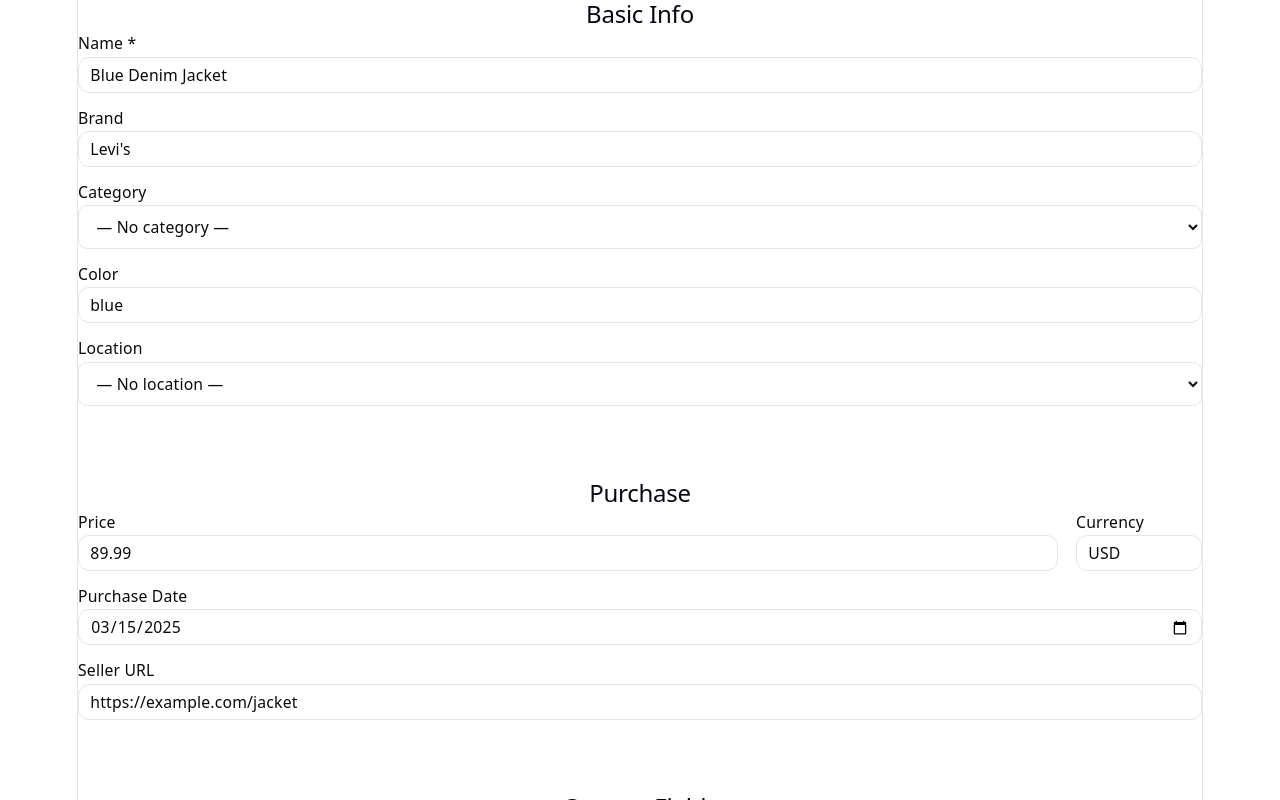
Test: ItemForm › ItemForm should show validation error when name is empty in edit mode
The width and height of the screenshot is (1280, 800).
Clear the field showing "Blue Denim Jacket": (640, 75) top-left (78, 57), bottom-right (1202, 93)
(page scrolled)
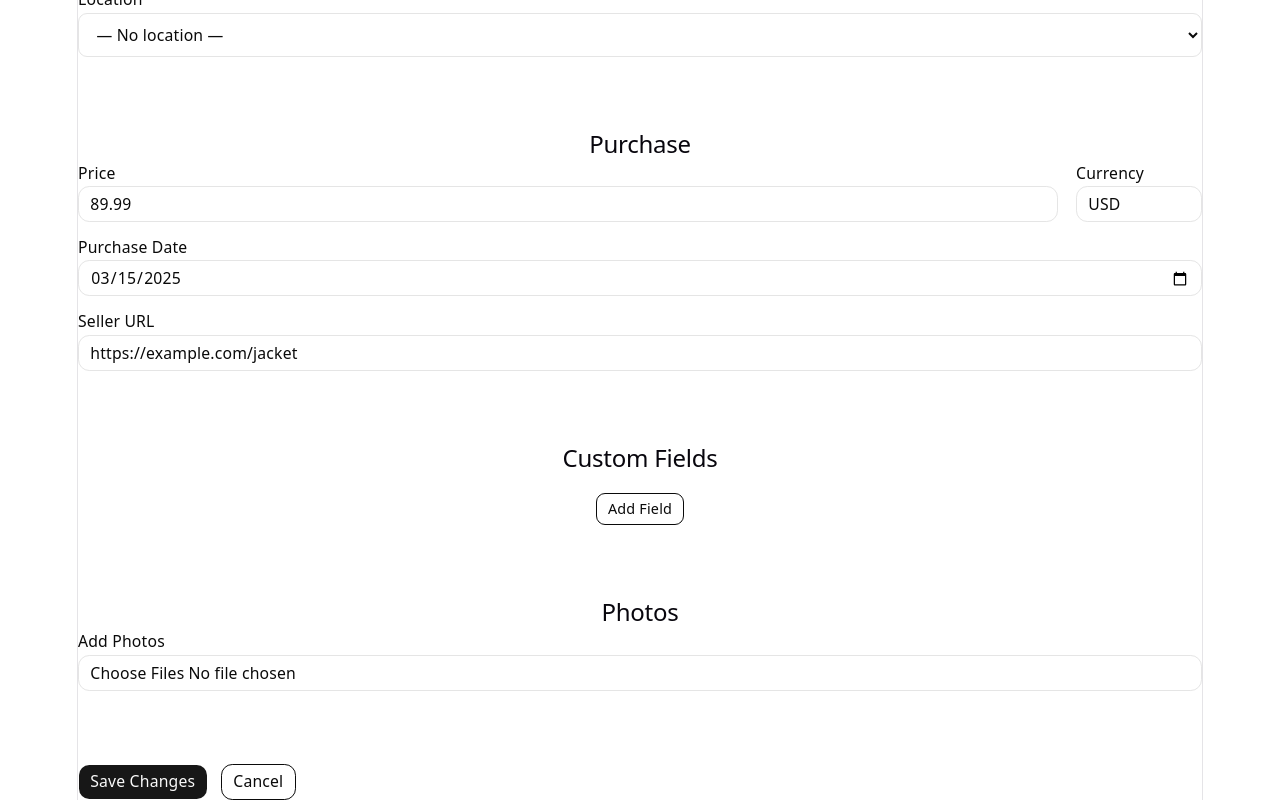
Click the button "Save Changes": click(143, 782) top-left (78, 764), bottom-right (208, 799)
(page scrolled)
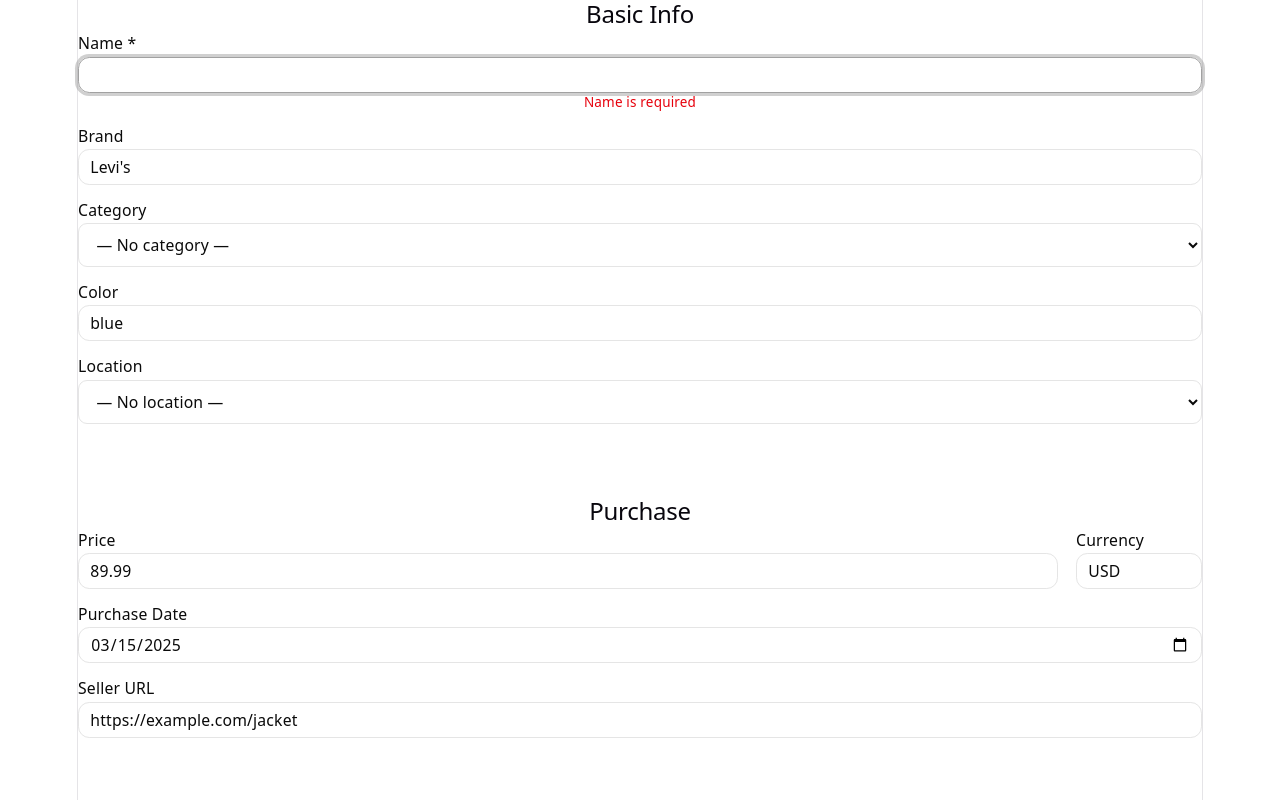
Now the text "Name is required" is shown, box top-left (584, 93), bottom-right (696, 111)
